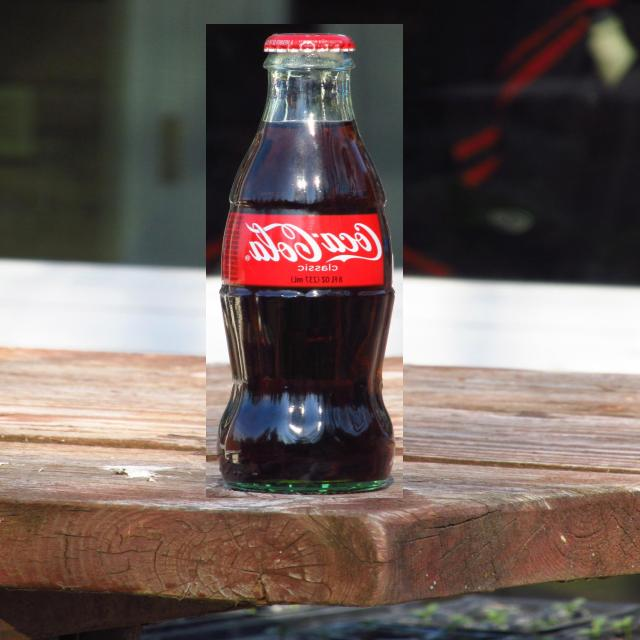coca-cola: (206, 24, 403, 498)
